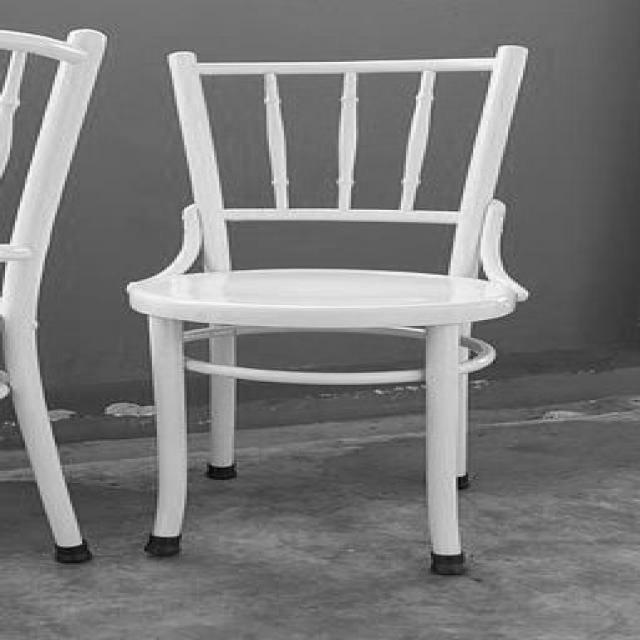chair: (137, 31, 527, 582), (0, 29, 114, 569)
